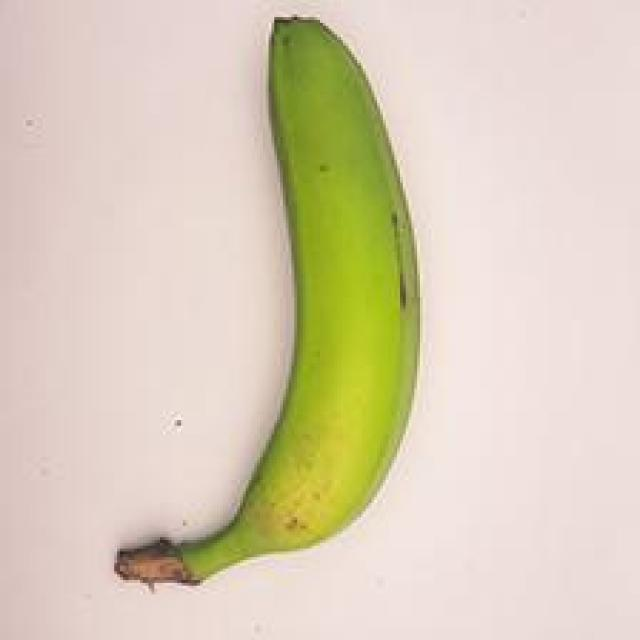Unripe: (85, 0, 482, 605)
